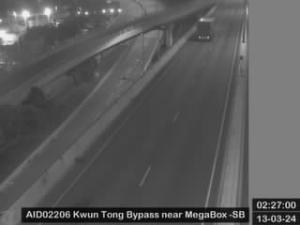truck: (195, 18, 218, 42)
